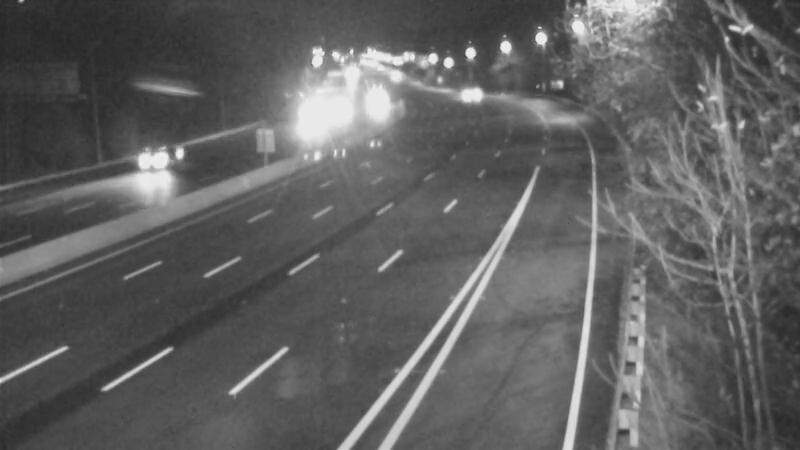vehicle: (107, 118, 187, 198), (448, 71, 498, 121), (284, 97, 334, 147), (346, 84, 396, 134)
